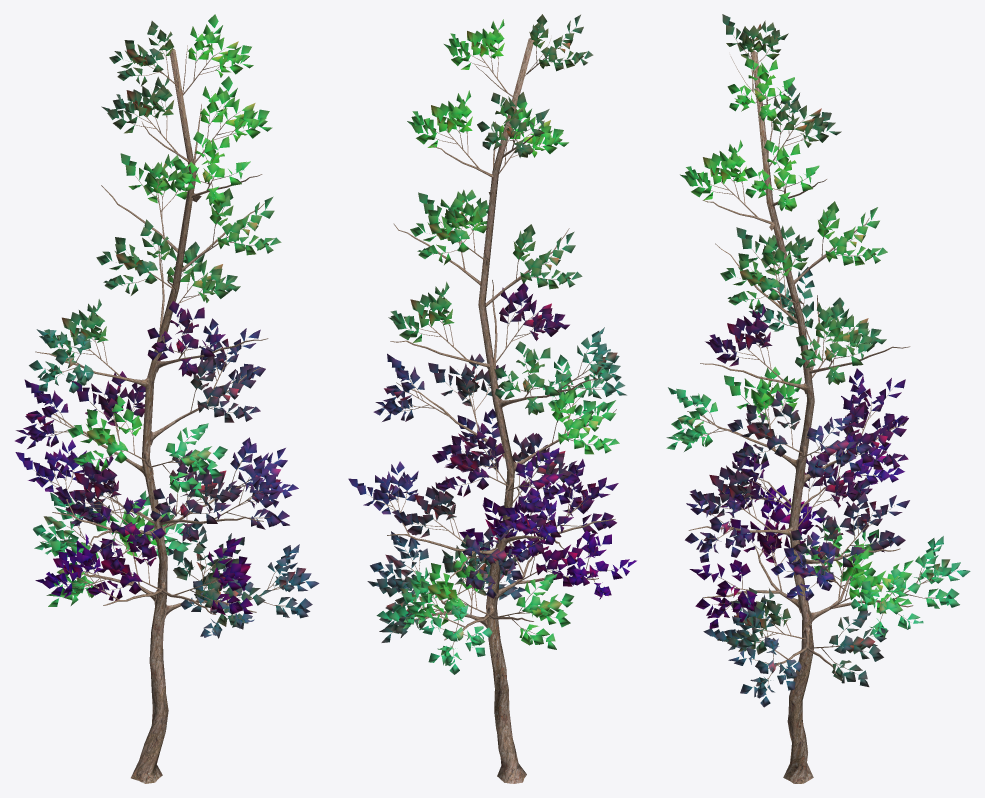
The model's file is DM.Tree.Maple.04.fbx.
3 renders of one model, left to right at view 1: azimuth 30°, elevation 25°; view 2: azimuth 150°, elevation 25°; view 3: azimuth 270°, elevation 25°, orthographic. The views are drawn at different scales.
Visible parts, largest first — view 1: Tree_1, Tree_0; view 2: Tree_1, Tree_0; view 3: Tree_1, Tree_0.
Part boxes in pixels (<box>): Tree_1: <box>15,14,319,638</box>; Tree_0: <box>29,34,298,783</box>; Tree_1: <box>348,14,636,674</box>; Tree_0: <box>369,26,620,783</box>; Tree_1: <box>666,14,970,707</box>; Tree_0: <box>682,35,954,783</box>.
Size of the model in its own units: 342 by 932 by 343.
Materials: 1 (1 with a texture image).
